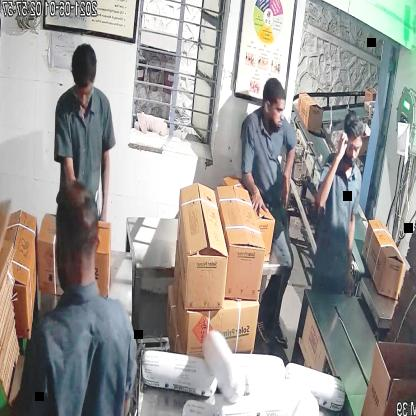goggles: (339, 136, 364, 156)
